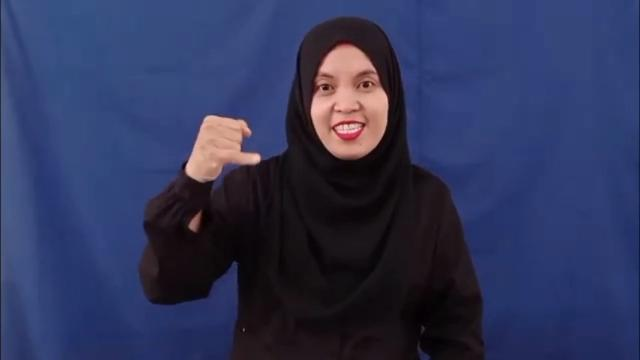J: (191, 114, 263, 168)
